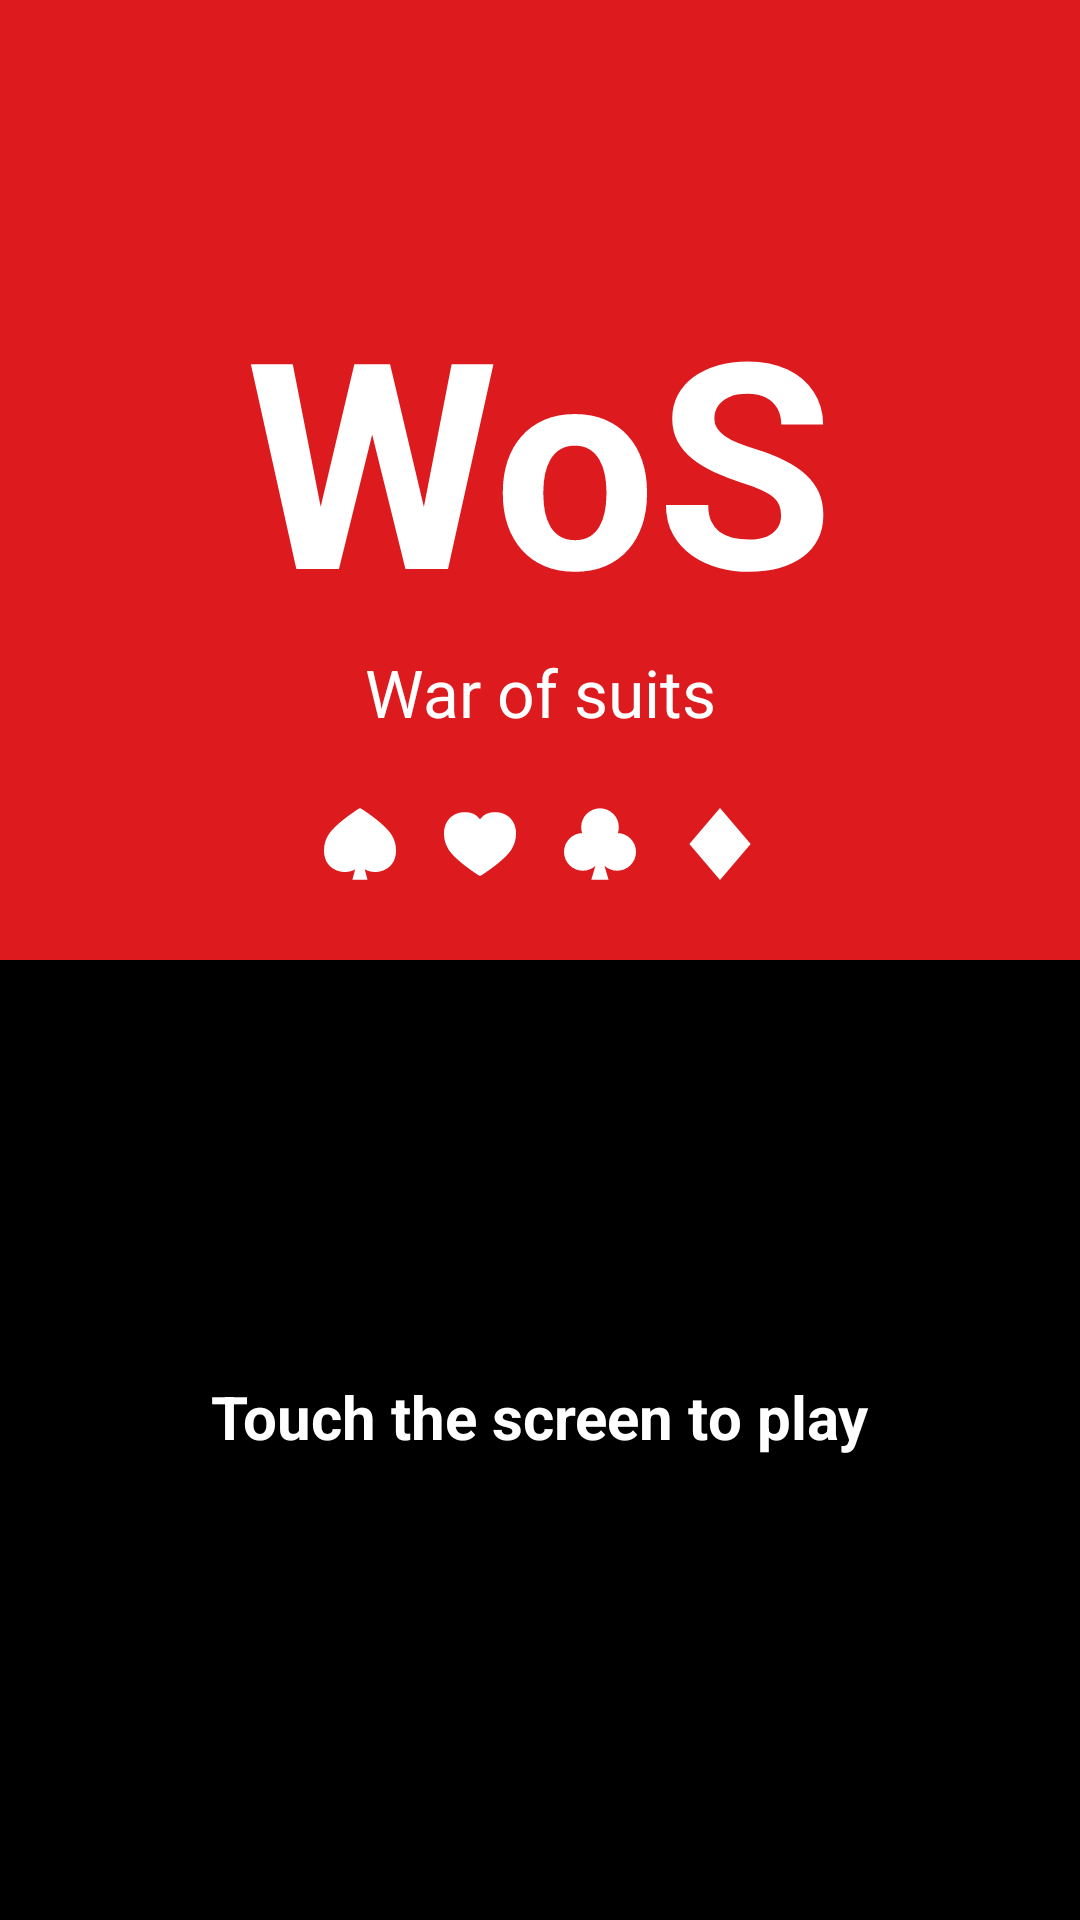

Screen size 1080px×1920px. Icon name, then its center in pixels as (x,y):
suit clubs: (600,844)
suit diamonds: (720,844)
suit hearts: (480,844)
suit spades: (360,844)
